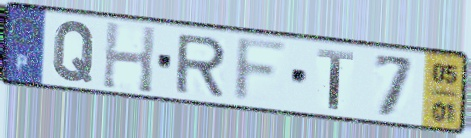7: (371, 52, 418, 120)
F: (230, 35, 293, 106)
H: (99, 19, 159, 97)
Q: (50, 19, 98, 85)
R: (172, 33, 229, 99)
T: (315, 46, 356, 112)
